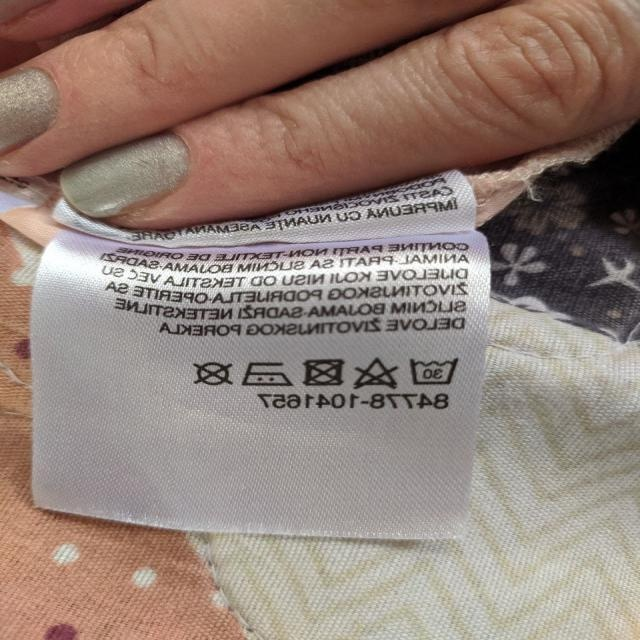30C: (404, 352, 460, 388)
DN_bleach: (354, 354, 398, 392)
DN_dry_clean: (190, 360, 235, 388)
DN_tumble_dry: (300, 356, 347, 391)
iron_medium: (238, 357, 292, 388)
